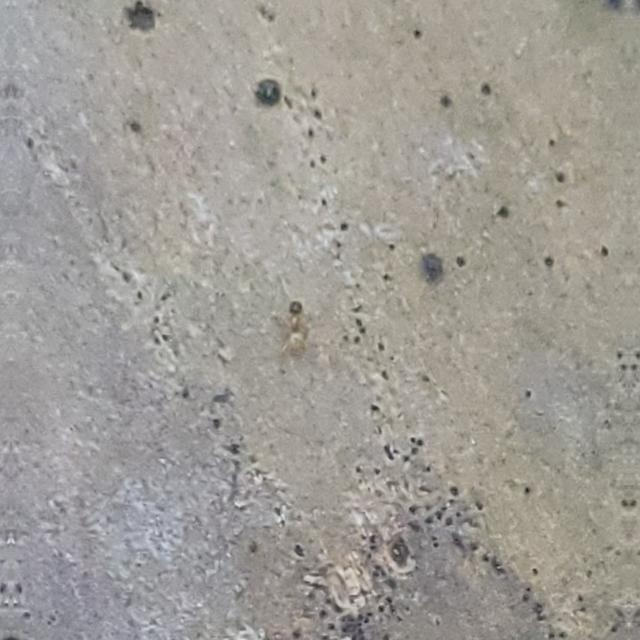Tapinoma: (268, 290, 320, 368)
